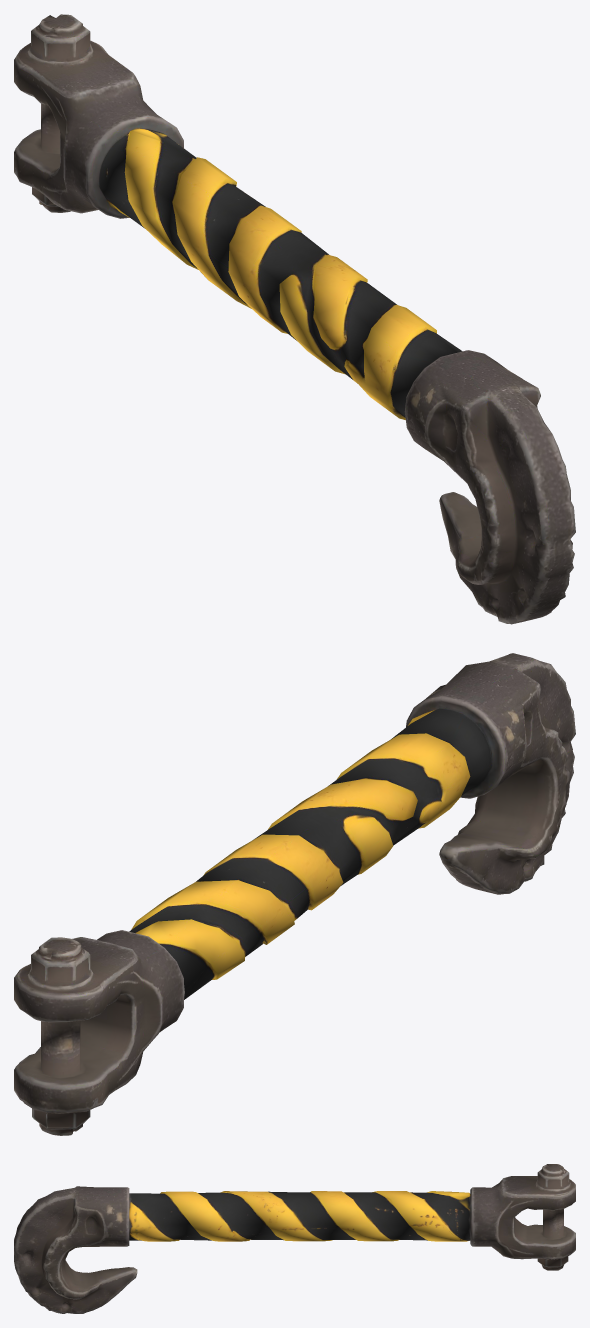
Rendered from hook_modern_remesh.glb.
3 views of the same model, one above another, from view 1: azimuth 30°, elevation 25°; view 2: azimuth 150°, elevation 25°; view 3: azimuth 270°, elevation 25° (orthographic). The views are drawn at different scales.
Parts seen in each view (by area): view 1: tripo_node_98974dff-3037-444e-8a96-54acc; view 2: tripo_node_98974dff-3037-444e-8a96-54acc; view 3: tripo_node_98974dff-3037-444e-8a96-54acc.
Boxes of the visible parts, left/top/right/bottom form: tripo_node_98974dff-3037-444e-8a96-54acc: left=14, top=14, right=575, bottom=624; tripo_node_98974dff-3037-444e-8a96-54acc: left=14, top=653, right=575, bottom=1135; tripo_node_98974dff-3037-444e-8a96-54acc: left=14, top=1164, right=575, bottom=1313.
Size of the model in its own units: 0.1115 by 0.2798 by 1.
Materials: 1 (1 with a texture image).
